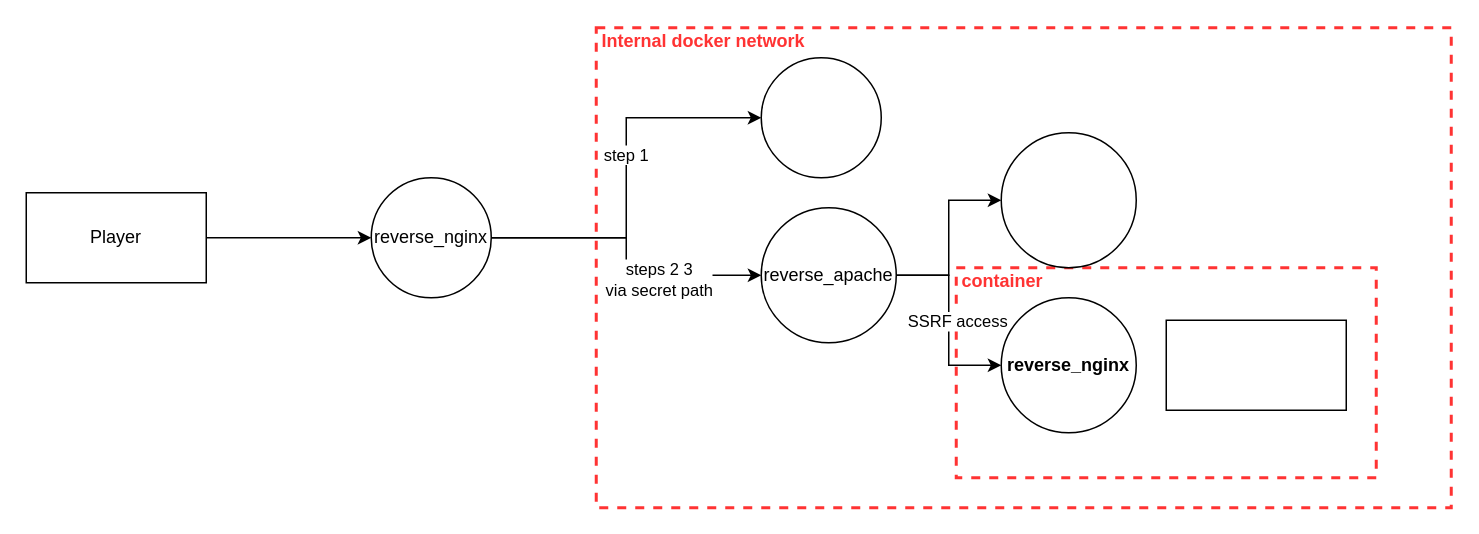
Image size: 1479x534. Some labels were removed from this diagram. The centre of each missing label's shape, as x and y in pixels:
default_backend_apache: the point at 1068,199
flag: the point at 1255,364
gunicorn: the point at 820,117
